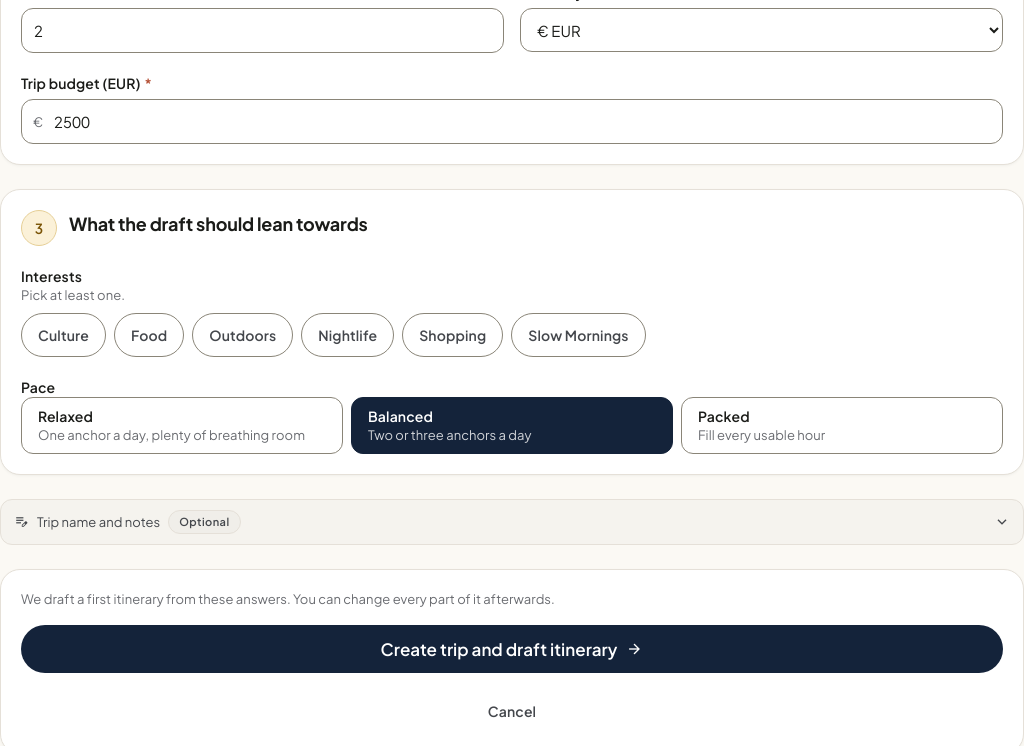
it: error summary focus: Create trip › leaves a whole typed word, and focus, in the field after a failed submit
The image size is (1024, 746).
(page scrolled)
Click the button "Create trip and draft itinerary": (512, 649) [21,625,1003,673]
(page scrolled)
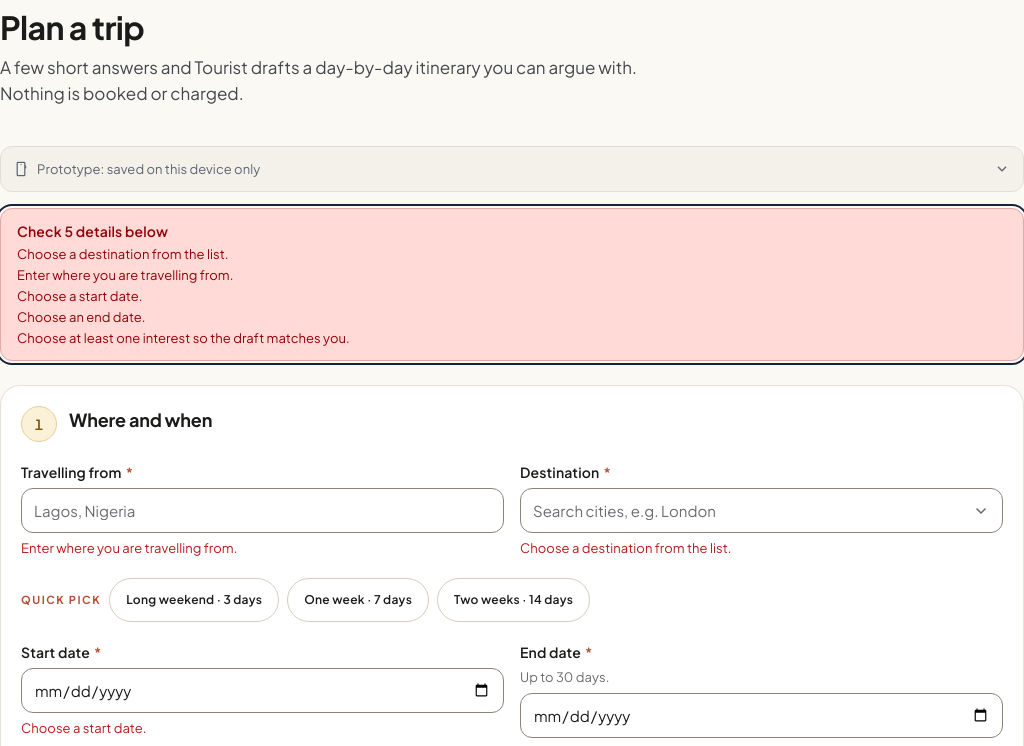
Click the field labelled "Travelling from*": (262, 510) [21,488,504,533]
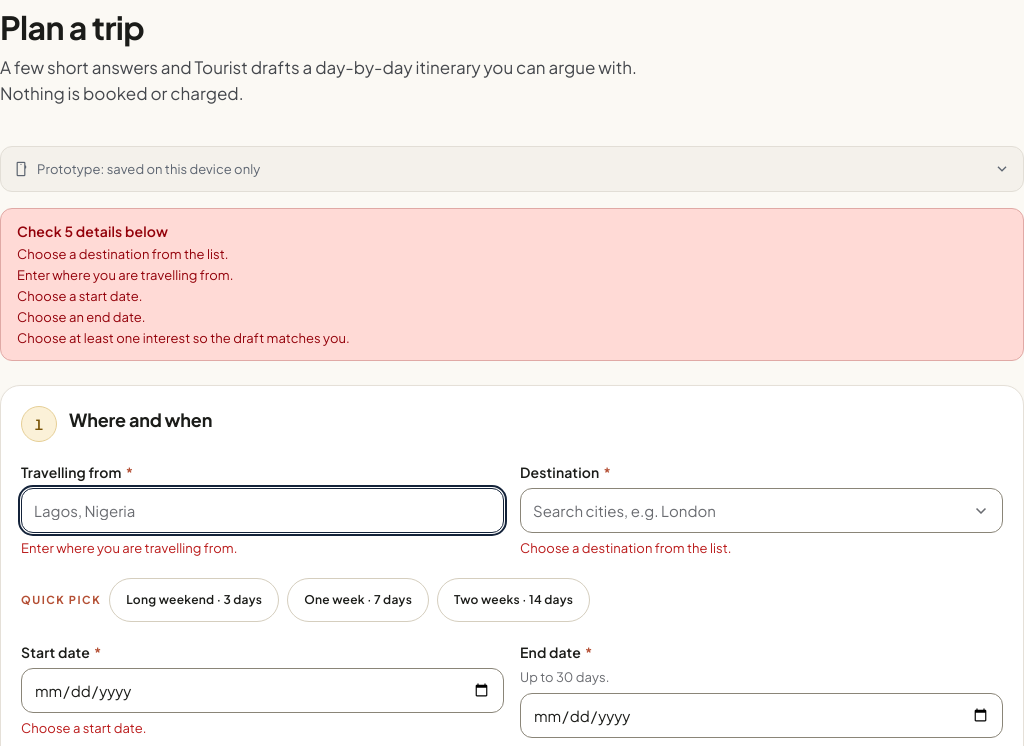
Type keys "Lagos"
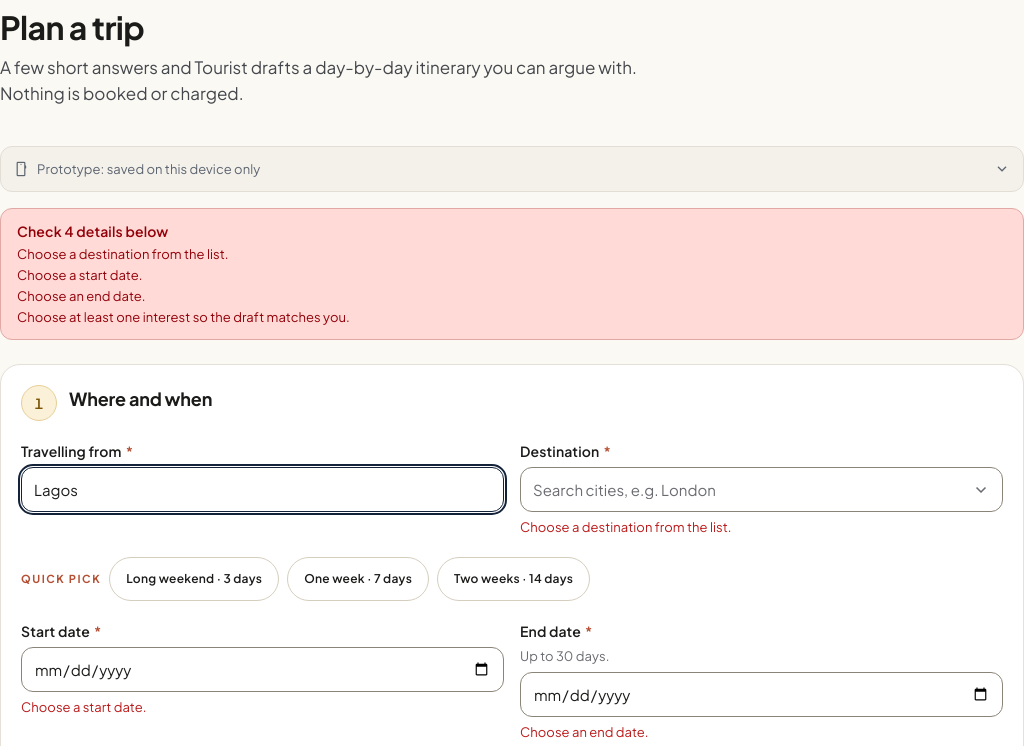
Now the field labelled "Travelling from*" holds "Lagos", box [21,467,504,512]
